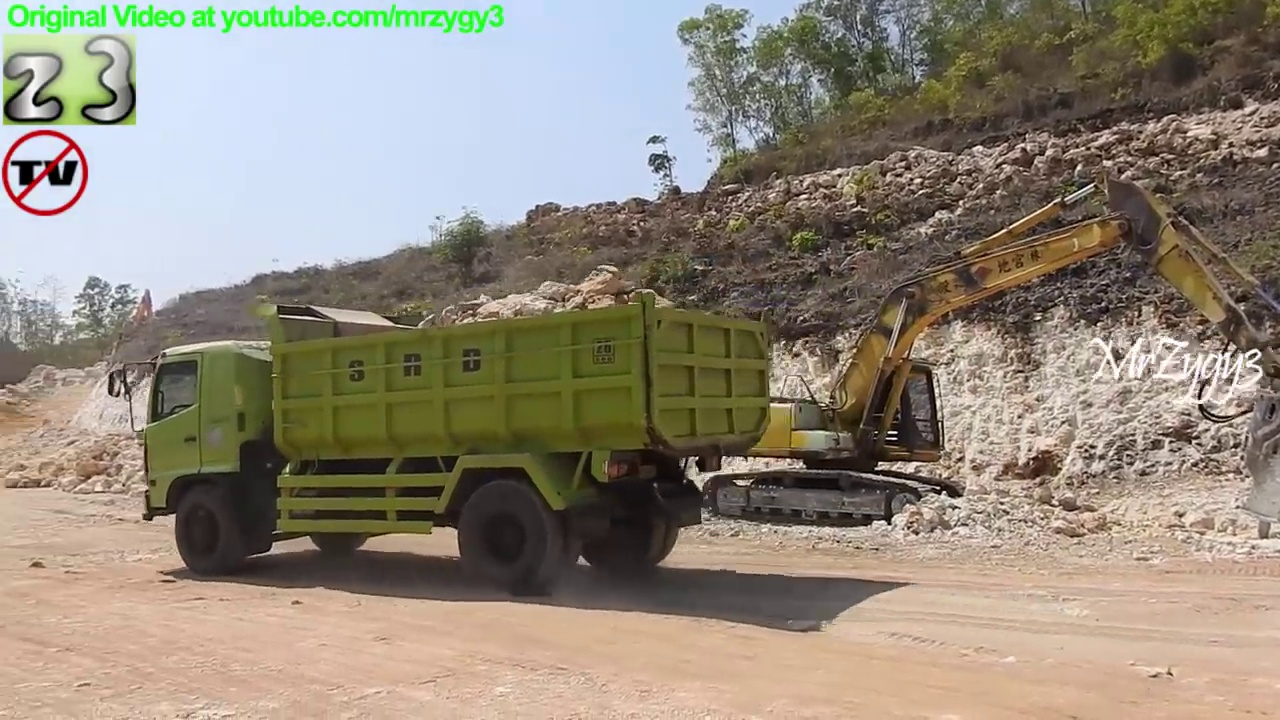excavator: (691, 168, 1280, 545), (113, 285, 160, 357)
truck: (105, 293, 777, 599)
